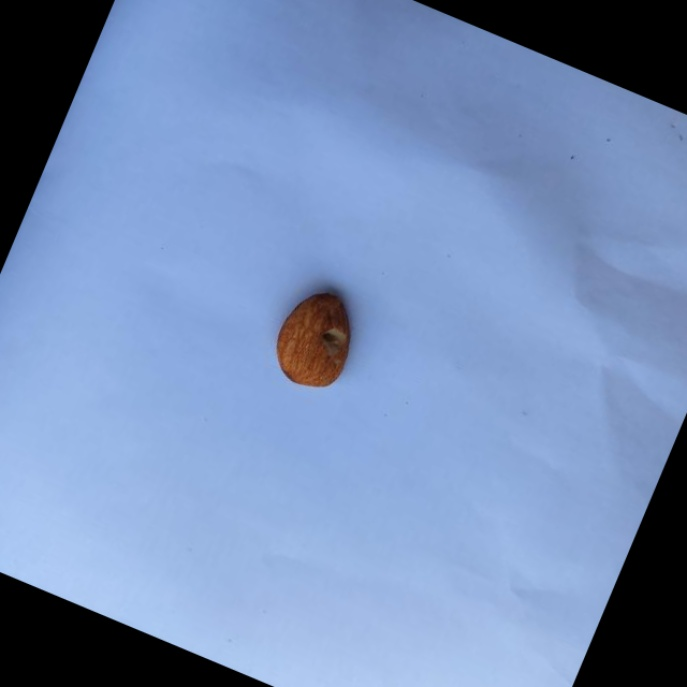grade3: (260, 275, 375, 404)
